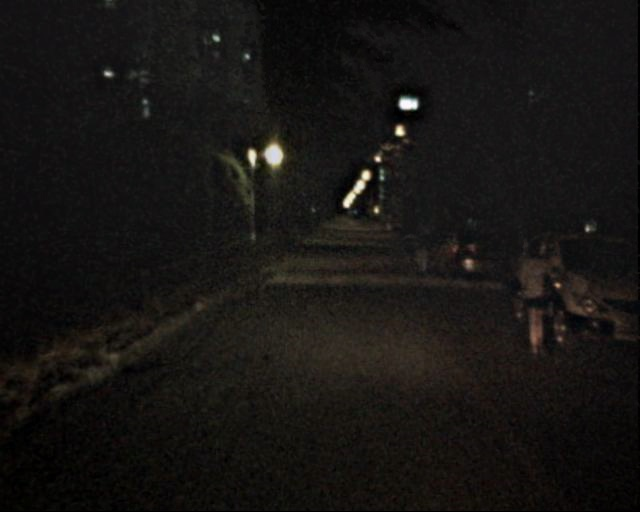person: (502, 234, 553, 358), (411, 222, 432, 272), (399, 225, 415, 265)
